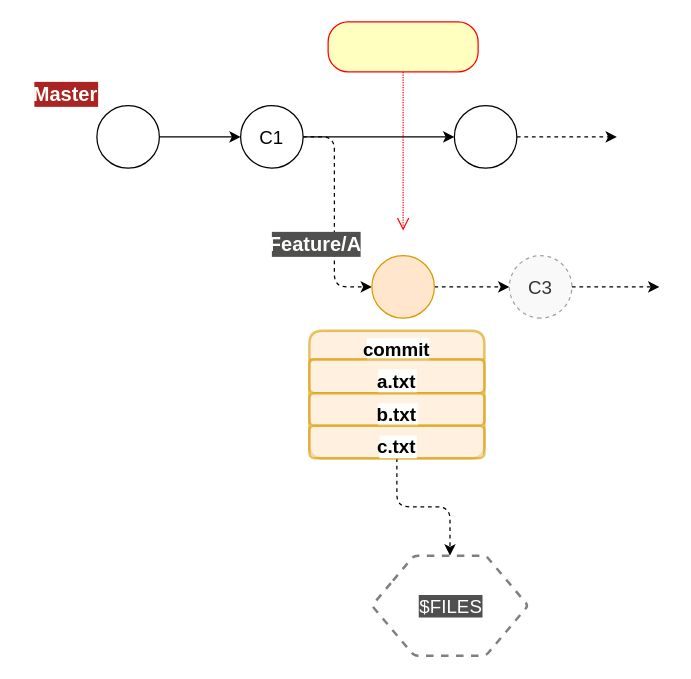
The diagram is 691 pixels wide and 679 high, and some of its shapes have lost their labels. The centre of each missing label's shape, as x and y in pixels:
"C0" belongs at [127,136].
"C2" belongs at [402,286].
"C4" belongs at [485,136].
"HEAD" belongs at [402,46].
